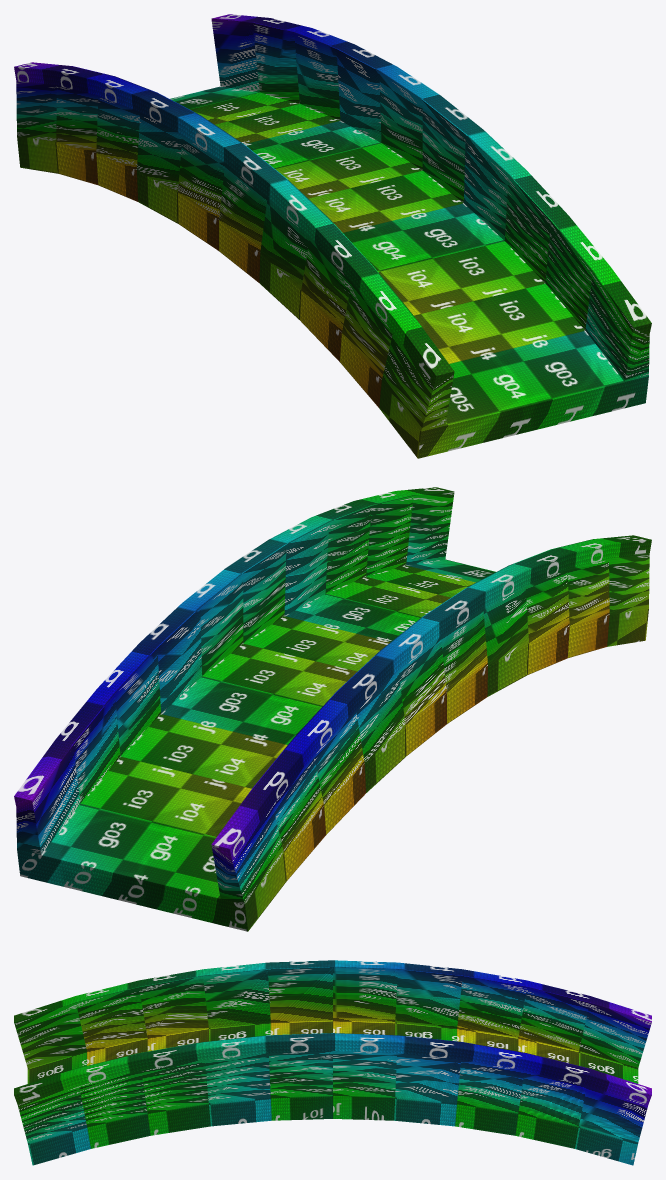
The model's file is BridgeCollision.FBX.
3 renders of one model, top to bottom at view 1: azimuth 30°, elevation 25°; view 2: azimuth 150°, elevation 25°; view 3: azimuth 270°, elevation 25°, orthographic. The views are drawn at different scales.
Visible parts, largest first — view 1: BridgeCollision; view 2: BridgeCollision; view 3: BridgeCollision.
Boxes of the visible parts, bbox=[...] form: BridgeCollision: bbox=[14, 14, 651, 458]; BridgeCollision: bbox=[14, 487, 651, 931]; BridgeCollision: bbox=[14, 960, 651, 1165].
Bounding box in the file's own units: 18.08 × 12.41 × 58.04.
